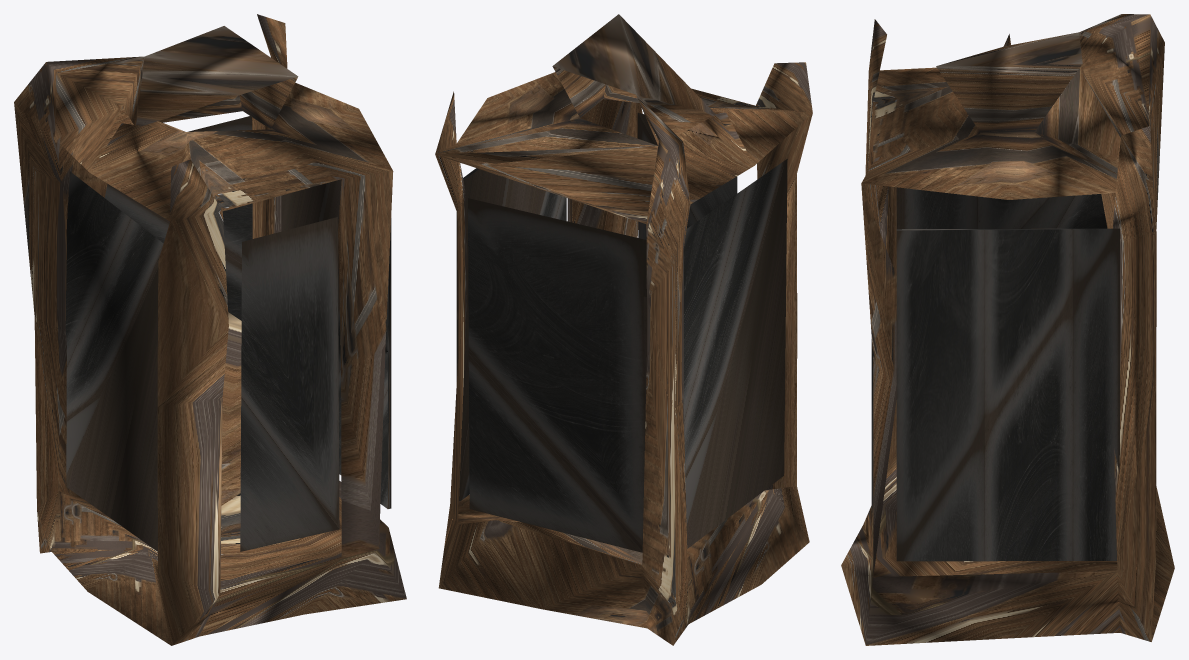
File: wooden_lantern_01_fern.gltf
3 renders of one model, left to right at view 1: azimuth 30°, elevation 25°; view 2: azimuth 150°, elevation 25°; view 3: azimuth 270°, elevation 25°, orthographic. The views are drawn at different scales.
Visible parts, largest first — view 1: wooden_lantern_01_fern; view 2: wooden_lantern_01_fern; view 3: wooden_lantern_01_fern.
Part boxes in pixels (x1=…): wooden_lantern_01_fern: x1=14, y1=14, x2=406, y2=645; wooden_lantern_01_fern: x1=435, y1=14, x2=812, y2=645; wooden_lantern_01_fern: x1=841, y1=14, x2=1174, y2=645.
Size of the model in its own units: 0.22 by 0.3949 by 0.2204.
Materials: 2 (2 with a texture image).
